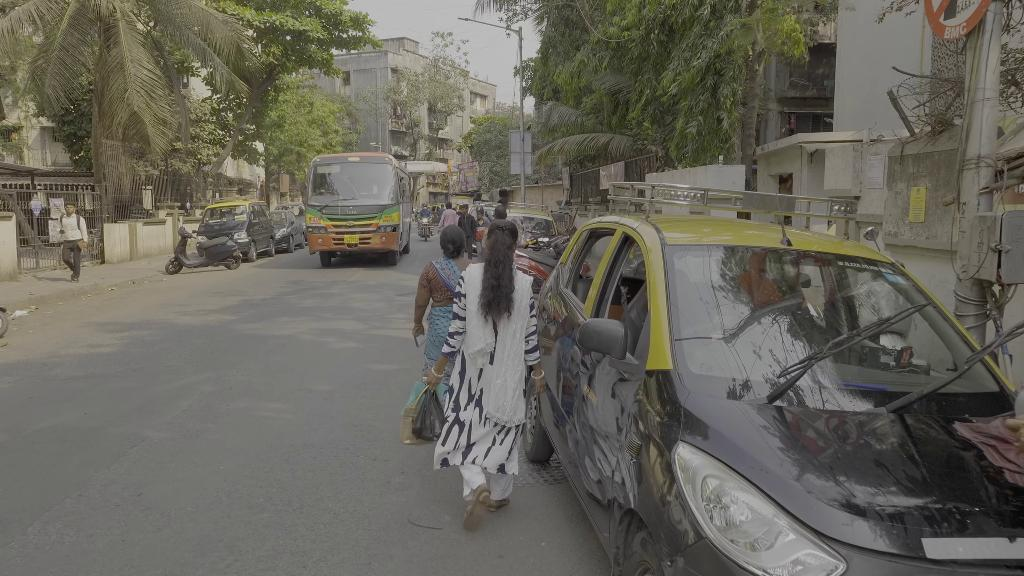garbage: (411, 386, 448, 443)
